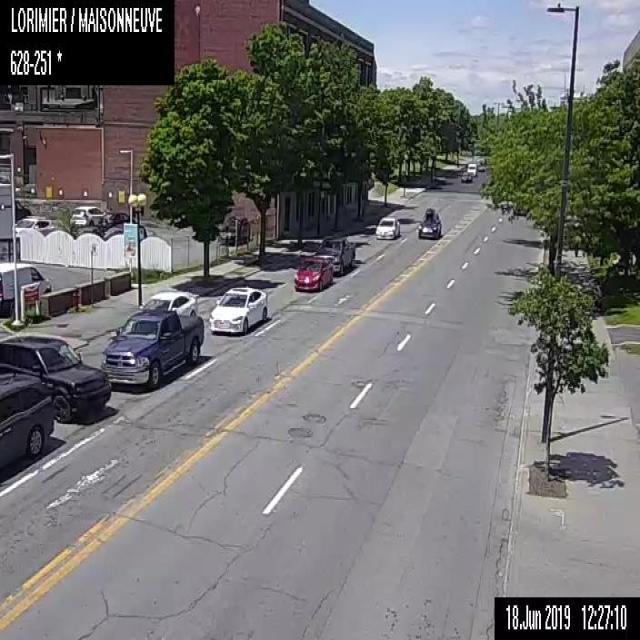vehicle: (0, 336, 110, 424), (100, 308, 204, 388), (0, 375, 53, 473), (208, 285, 266, 335), (0, 261, 50, 316), (313, 236, 355, 274), (138, 291, 196, 316), (293, 259, 333, 290), (216, 214, 249, 245), (12, 215, 54, 235), (417, 206, 441, 239), (69, 205, 104, 225), (373, 215, 400, 237), (100, 211, 135, 226), (460, 170, 472, 181), (467, 162, 476, 175)
